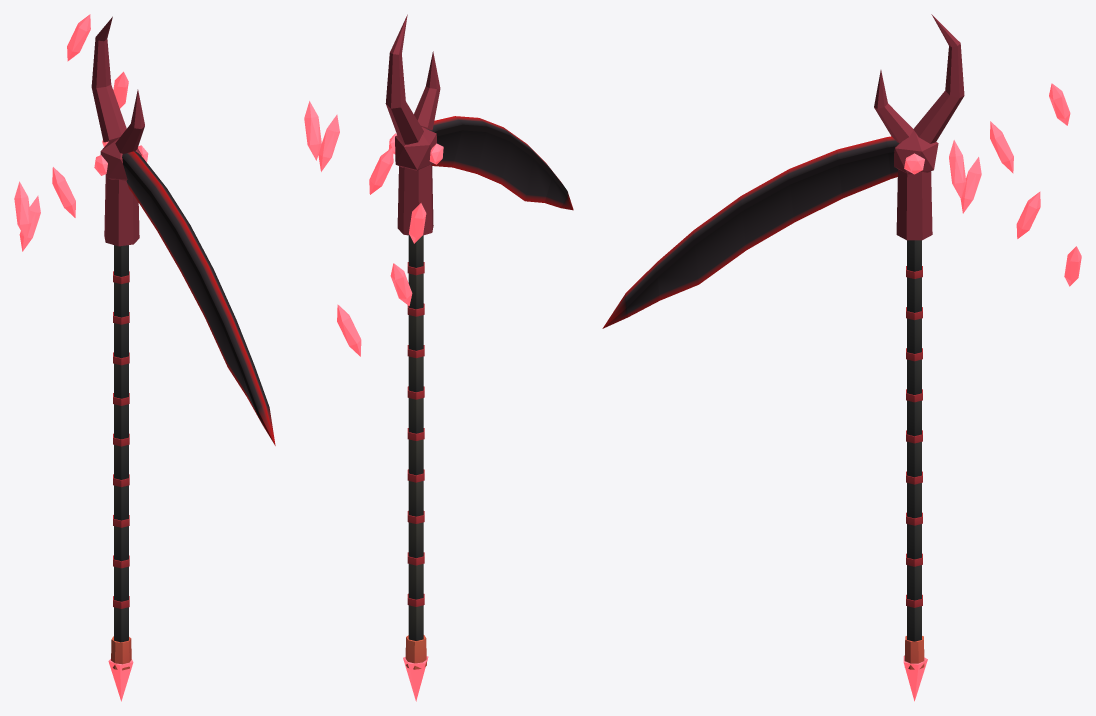
File: polearm_mythic.glb
3 views of the same model, side by side, from view 1: azimuth 30°, elevation 25°; view 2: azimuth 150°, elevation 25°; view 3: azimuth 270°, elevation 25° (orthographic). The views are drawn at different scales.
Parts seen in each view (by area): view 1: polearm_mythic_export; view 2: polearm_mythic_export; view 3: polearm_mythic_export.
Boxes of the visible parts, box(x1,y1,x2,y2) form: polearm_mythic_export: box(14, 14, 275, 701); polearm_mythic_export: box(304, 14, 573, 701); polearm_mythic_export: box(602, 14, 1081, 701).
Size of the model in its own units: 34.01 by 226 by 143.
